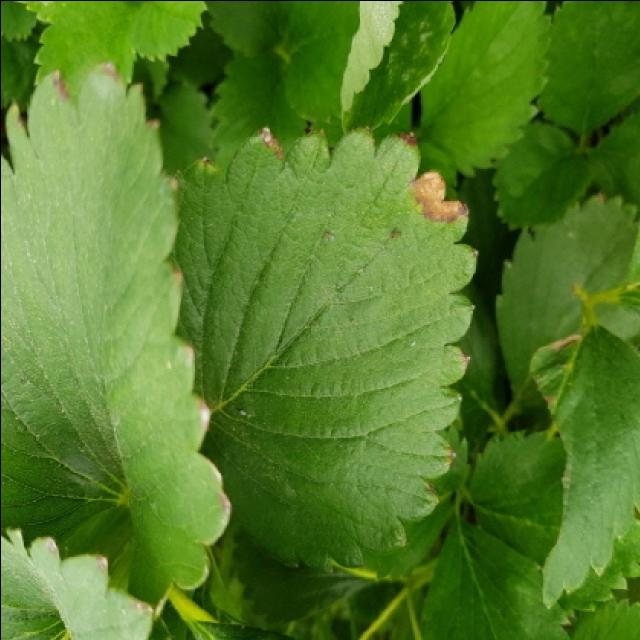Powdery Mildew Leaf: (337, 2, 458, 134)
